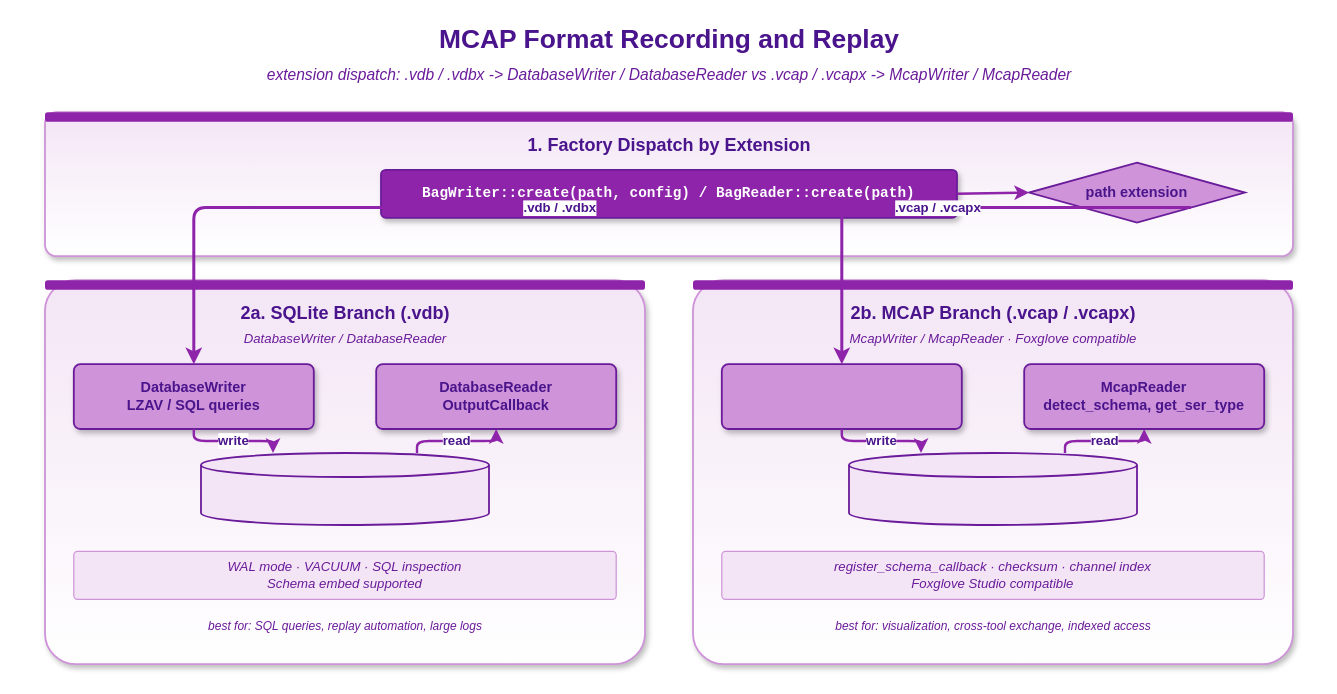
Image size: 1337x694. Some labels were removed from this diagram. Here are the shapes that lost their labels. From the top down, the centre of each, then its label:
At (x=842, y=398): "McapWriter Zstd / channels / schemas".
At (x=344, y=488): ".vdb (SQLite + LZAV)".
At (x=992, y=488): ".vcap / .vcapx (MCAP + Zstd)".
